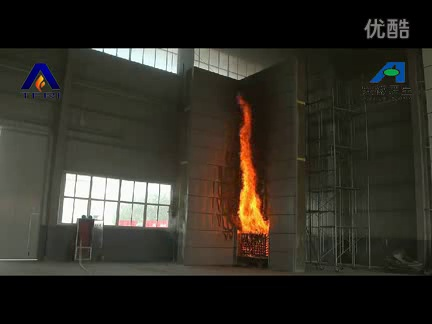fire: (237, 97, 269, 232)
